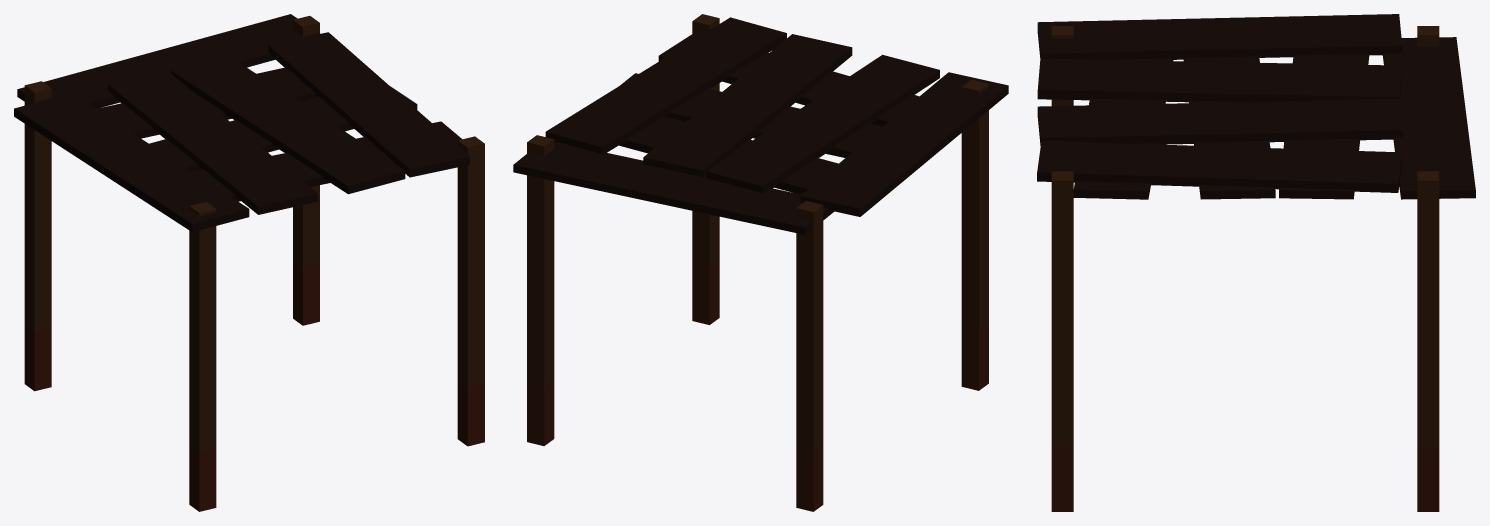
File: Stand1.fbx
3 renders of one model, left to right at view 1: azimuth 30°, elevation 25°; view 2: azimuth 150°, elevation 25°; view 3: azimuth 270°, elevation 25°, orthographic. The views are drawn at different scales.
Visible parts, largest first — view 1: mergedBlocks; view 2: mergedBlocks; view 3: mergedBlocks.
Part boxes in pixels (left/top/right/bottom): mergedBlocks: left=14, top=14, right=484, bottom=511; mergedBlocks: left=513, top=14, right=1008, bottom=511; mergedBlocks: left=1037, top=14, right=1475, bottom=511.
Size of the model in its own units: 11 by 10 by 12.
